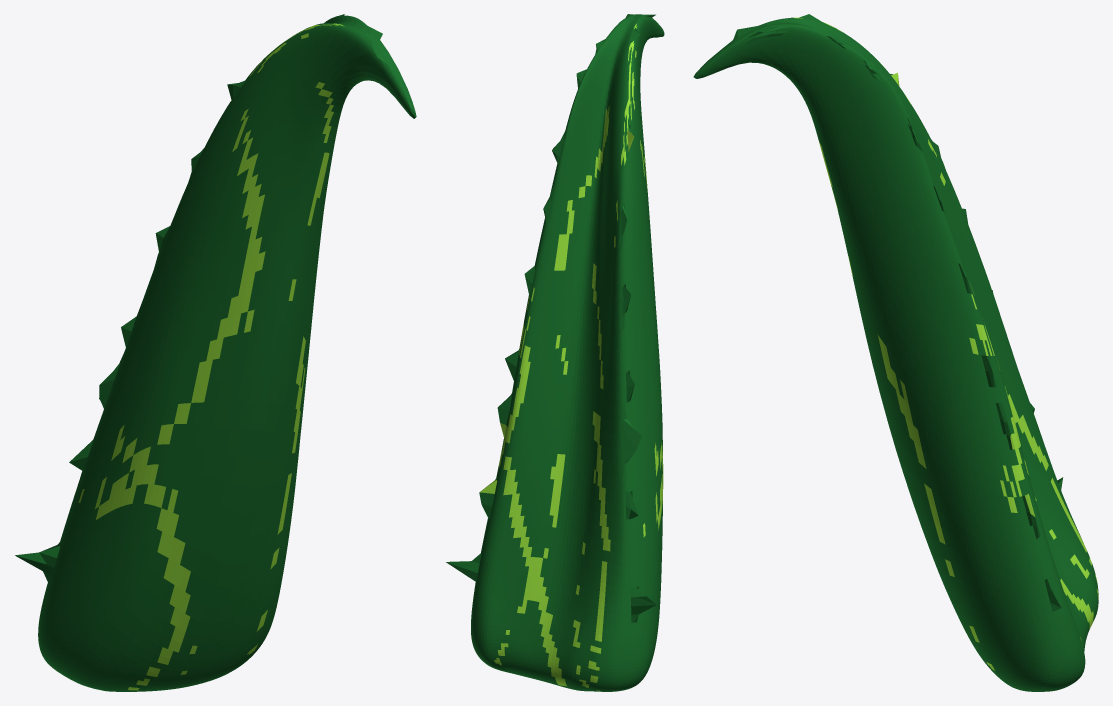
File: Aloevera saksıda yeni.fbx
3 views of the same model, side by side, from view 1: azimuth 30°, elevation 25°; view 2: azimuth 150°, elevation 25°; view 3: azimuth 270°, elevation 25° (orthographic). The views are drawn at different scales.
Parts seen in each view (by area): view 1: Cube.002; view 2: Cube.002; view 3: Cube.002.
Part boxes in pixels (bbox=[...]): Cube.002: bbox=[15, 14, 416, 691]; Cube.002: bbox=[446, 14, 664, 691]; Cube.002: bbox=[693, 14, 1098, 691].
Bounding box in the file's own units: 92.22 × 238 × 131.
